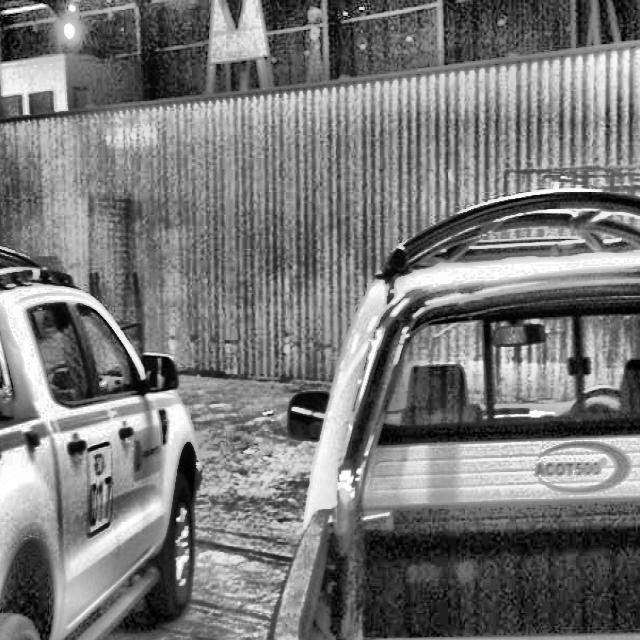light_vehicle: (248, 112, 640, 639), (0, 159, 203, 640)
